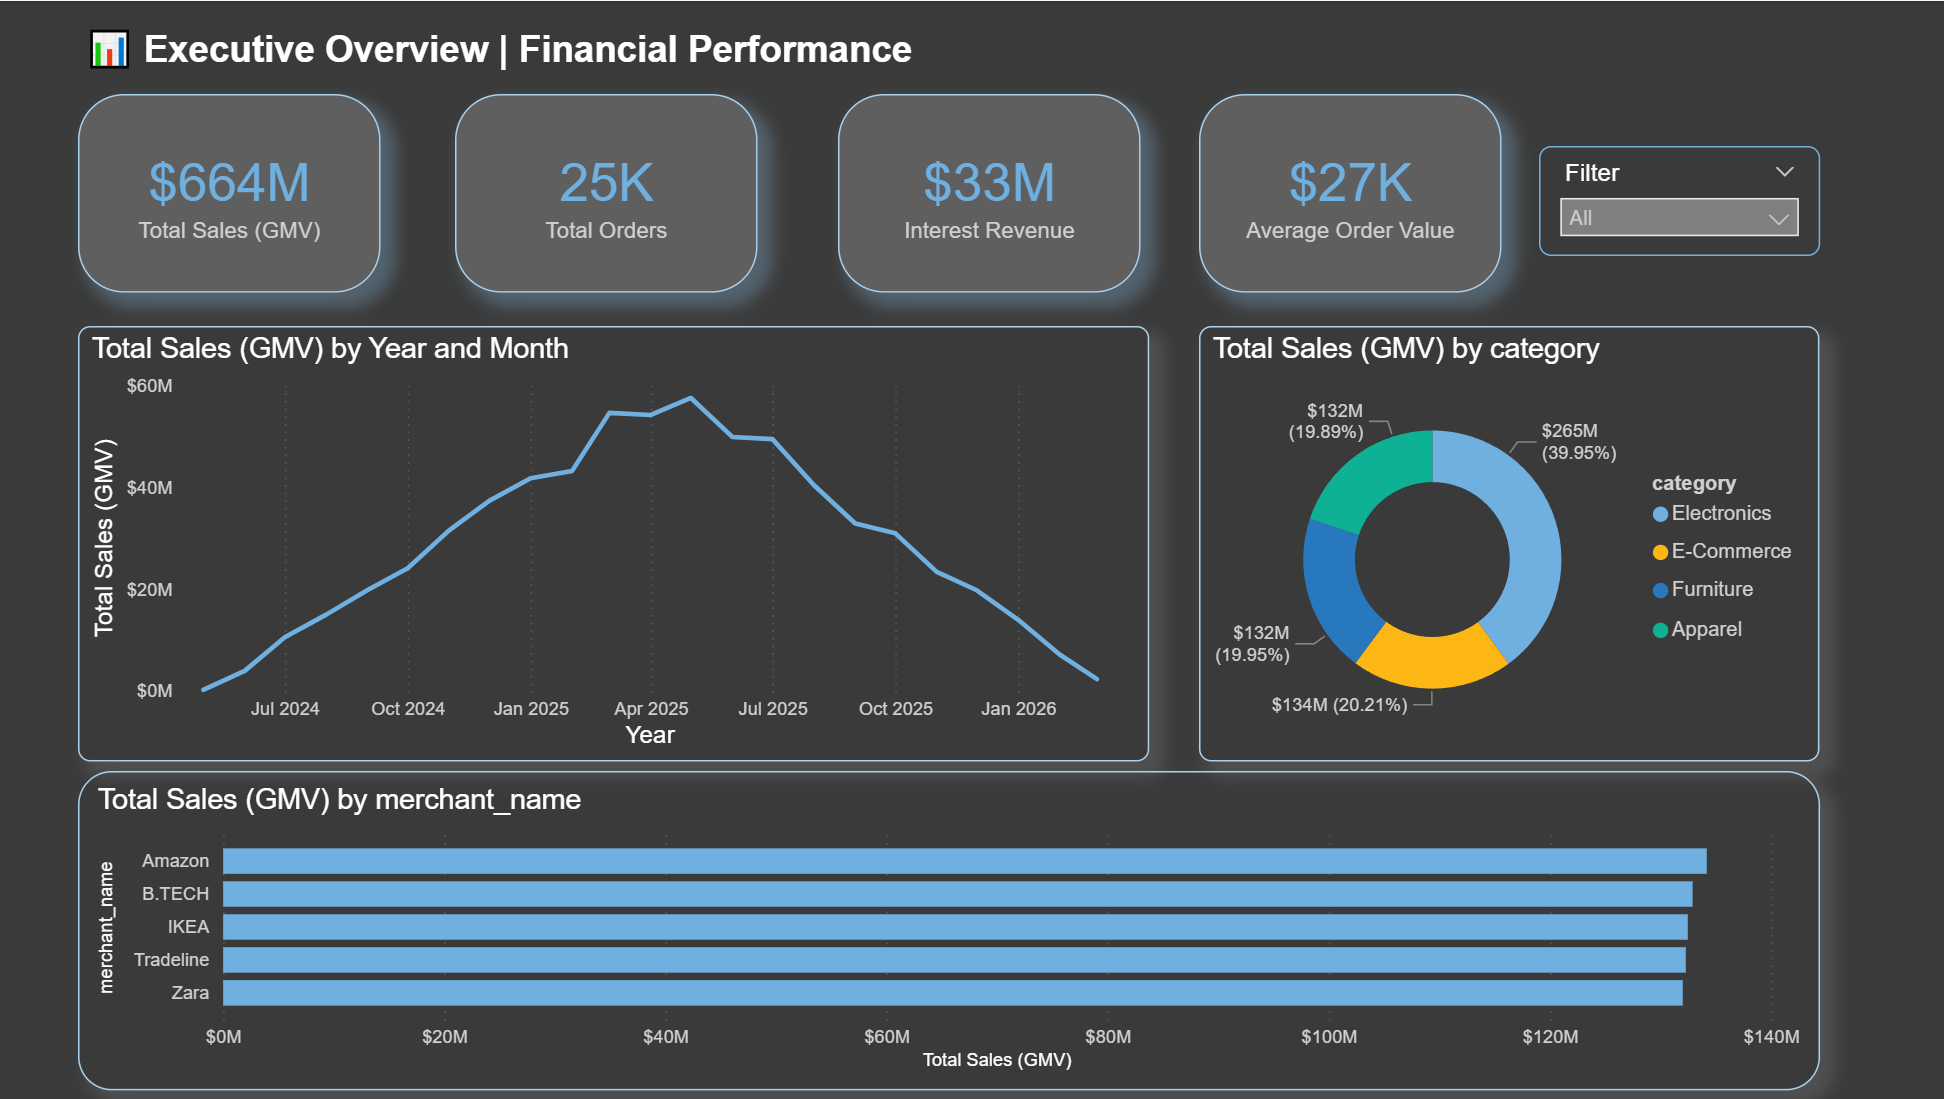

This screenshot's page, from the dashboard's own definition file:
{"tool":"powerbi","page":{"name":"📊 Executive Overview | Financial Performance","canvas":[1280,720],"ordinal":0},"visuals":[{"type":"card","fields":{"Values":["_KPIs_Measures.Total Sales (GMV)"]},"box":[53.7,60.9,198.3,129.6],"z":0},{"type":"card","fields":{"Values":["_KPIs_Measures.Total Orders"]},"box":[300.4,60.9,198.3,129.6],"z":1000},{"type":"card","fields":{"Values":["_KPIs_Measures.Interest Revenue"]},"box":[551,60.9,198.3,129.6],"z":2000},{"type":"card","fields":{"Values":["_KPIs_Measures.Average Order Value"]},"box":[787.2,60.9,198.3,129.6],"z":3000},{"type":"slicer","fields":{"Values":["dw dim_date.year","dw dim_date.month_name","dw dim_date.month"]},"box":[1009.7,94.9,183.9,72],"z":4000},{"type":"lineChart","fields":{"Y":["_KPIs_Measures.Total Sales (GMV)"],"Category":["dw dim_date.date_key.Variation.Date Hierarchy.Year","dw dim_date.date_key.Variation.Date Hierarchy.Month"]},"box":[53.7,212.7,700.9,284.7],"z":5000},{"type":"donutChart","fields":{"Category":["dw dim_merchants.category"],"Y":["_KPIs_Measures.Total Sales (GMV)"]},"box":[787.2,212.7,406.4,284.7],"z":6000},{"type":"barChart","fields":{"Category":["dw dim_merchants.merchant_name"],"Y":["_KPIs_Measures.Total Sales (GMV)"]},"box":[53.7,503.9,1140,208.8],"z":7000},{"type":"textbox","box":[53.7,9.2,697.6,44.5],"z":8000}]}

Visuals, with their boxes in screenshot pixels (x1, y1, x2, y2), scaled from the page's 1280x720 canvas onto the 1944x1099 screenshot:
card - _KPIs_Measures.Total Sales (GMV): (left=82, top=93, right=383, bottom=291)
card - _KPIs_Measures.Total Orders: (left=456, top=93, right=757, bottom=291)
card - _KPIs_Measures.Interest Revenue: (left=837, top=93, right=1138, bottom=291)
card - _KPIs_Measures.Average Order Value: (left=1196, top=93, right=1497, bottom=291)
slicer - dw dim_date.year x dw dim_date.month_name: (left=1533, top=145, right=1813, bottom=255)
lineChart - _KPIs_Measures.Total Sales (GMV) x dw dim_date.date_key.Variation.Date Hierarchy.Year: (left=82, top=325, right=1146, bottom=759)
donutChart - dw dim_merchants.category x _KPIs_Measures.Total Sales (GMV): (left=1196, top=325, right=1813, bottom=759)
barChart - dw dim_merchants.merchant_name x _KPIs_Measures.Total Sales (GMV): (left=82, top=769, right=1813, bottom=1088)
textbox: (left=82, top=14, right=1141, bottom=82)
